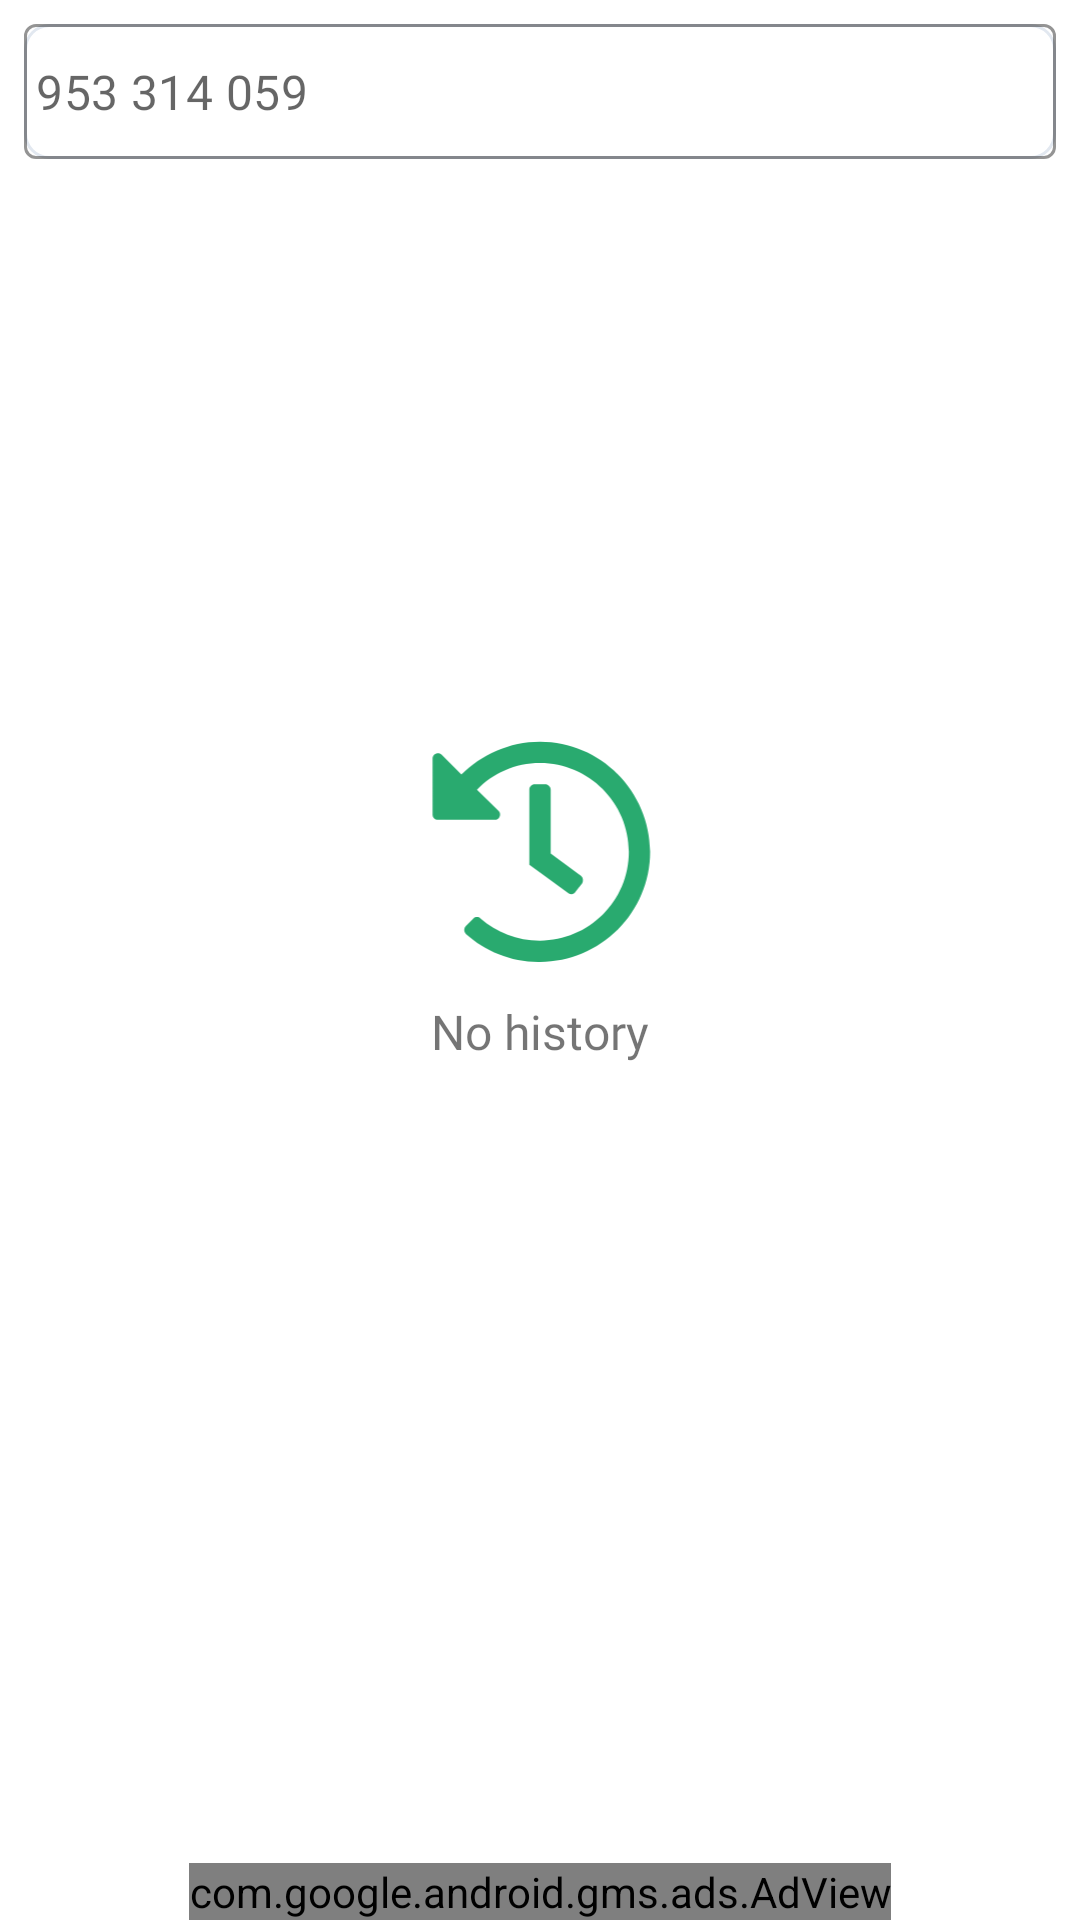

Screen size 1080px x 1920px. Icon name, then its center in pixels as [x,y]:
recall: [541,851]
